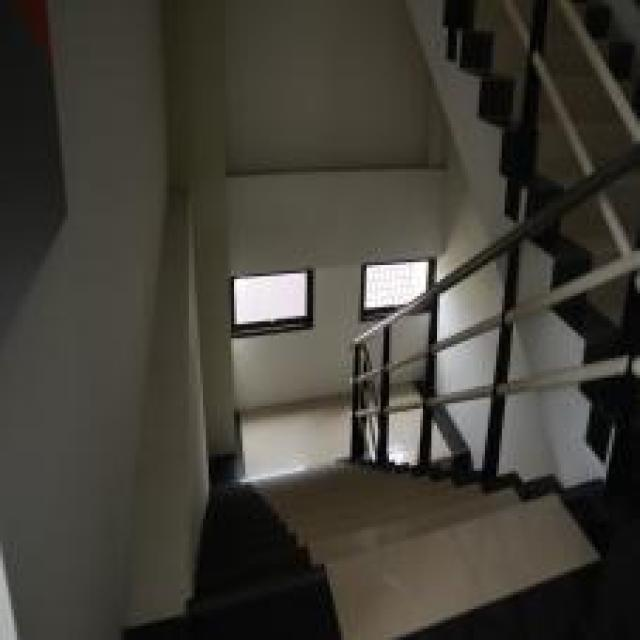downstair: (210, 472, 495, 638)
